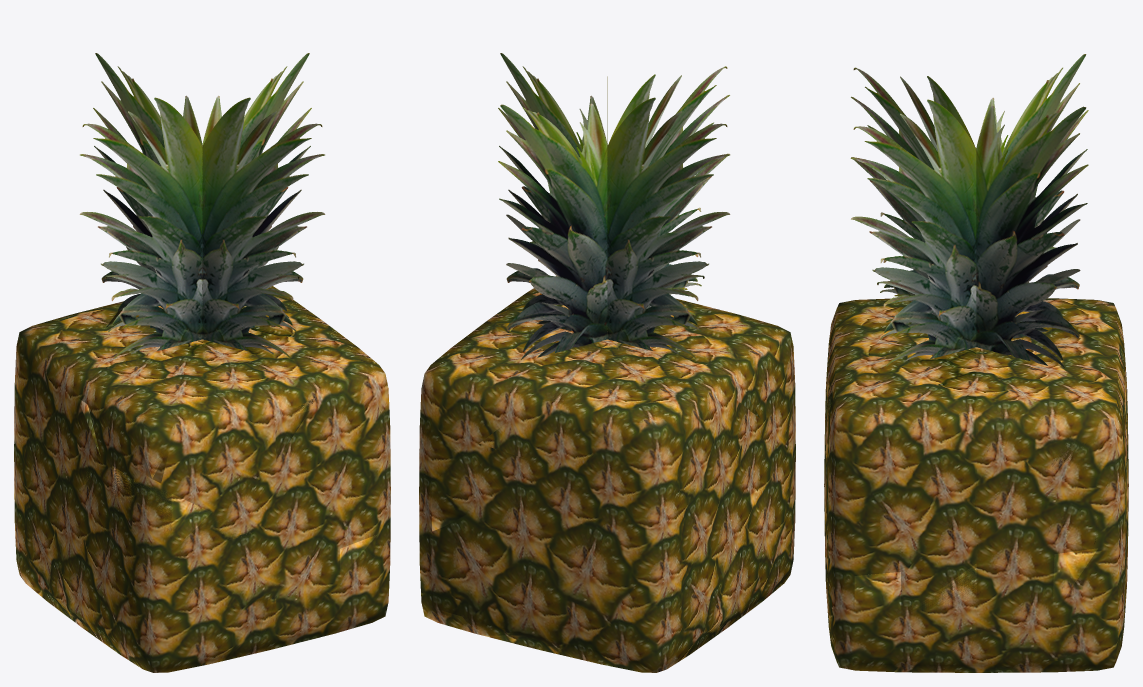
The model's file is SqPineapple.fbx.
3 renders of one model, left to right at view 1: azimuth 30°, elevation 25°; view 2: azimuth 150°, elevation 25°; view 3: azimuth 270°, elevation 25°, orthographic. The views are drawn at different scales.
Parts seen in each view (by area): view 1: SqPineapple, SqPineapple_leaf, SqPineapple_cell.001, SqPineapple_cell.002, SqPineapple_cell, SqPineapple_cell.004; view 2: SqPineapple, SqPineapple_leaf, SqPineapple_cell.002, SqPineapple_cell.004, SqPineapple_cell.001; view 3: SqPineapple, SqPineapple_leaf, SqPineapple_cell, SqPineapple_cell.004, SqPineapple_cell.003, SqPineapple_cell.002.
Boxes of the visible parts, box(x1,y1,x2,y2) form: SqPineapple: box(14, 286, 390, 672); SqPineapple_leaf: box(79, 53, 325, 358); SqPineapple_cell.001: box(58, 465, 268, 672); SqPineapple_cell.002: box(14, 326, 100, 598); SqPineapple_cell: box(263, 534, 390, 639); SqPineapple_cell.004: box(106, 309, 315, 483); SqPineapple: box(419, 288, 795, 672); SqPineapple_leaf: box(498, 53, 730, 359); SqPineapple_cell.002: box(432, 389, 760, 672); SqPineapple_cell.004: box(421, 322, 794, 393); SqPineapple_cell.001: box(703, 481, 770, 644); SqPineapple: box(824, 298, 1128, 672); SqPineapple_leaf: box(850, 54, 1088, 368); SqPineapple_cell: box(825, 548, 1116, 668); SqPineapple_cell.004: box(825, 300, 1121, 469); SqPineapple_cell.003: box(831, 386, 1097, 543); SqPineapple_cell.002: box(1051, 298, 1128, 562).
Bounding box in the file's own units: 12 × 23.36 × 11.85.
